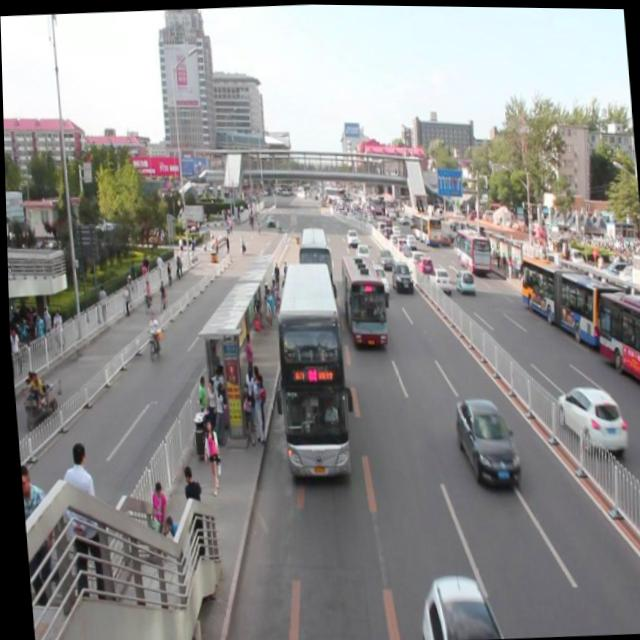car: (446, 385, 523, 495), (411, 570, 508, 640), (362, 257, 390, 301), (386, 257, 415, 293), (374, 243, 396, 271), (349, 237, 372, 263)
van: (263, 256, 358, 492), (333, 247, 390, 350), (291, 219, 340, 310)
